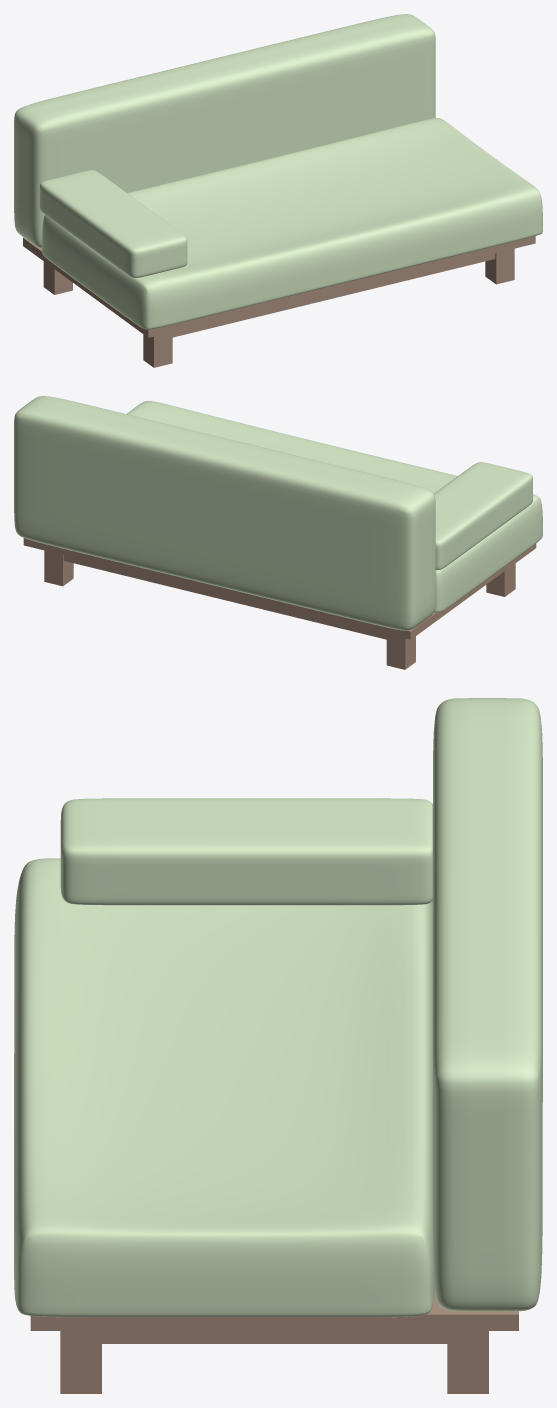
The model's file is 008_ソファ.glb.
The picture shows the model from 3 angles, top to bottom: view 1: azimuth 30°, elevation 25°; view 2: azimuth 150°, elevation 25°; view 3: azimuth 270°, elevation 25°; orthographic projection. The views are drawn at different scales.
Visible parts, largest first — view 1: body; view 2: body; view 3: body.
Boxes of the visible parts, box(x1,y1,x2,y2) form: body: box(14, 14, 542, 367); body: box(14, 396, 542, 669); body: box(14, 698, 542, 1393).
Bounding box in the file's own units: 1.52 × 0.64 × 0.8883.
